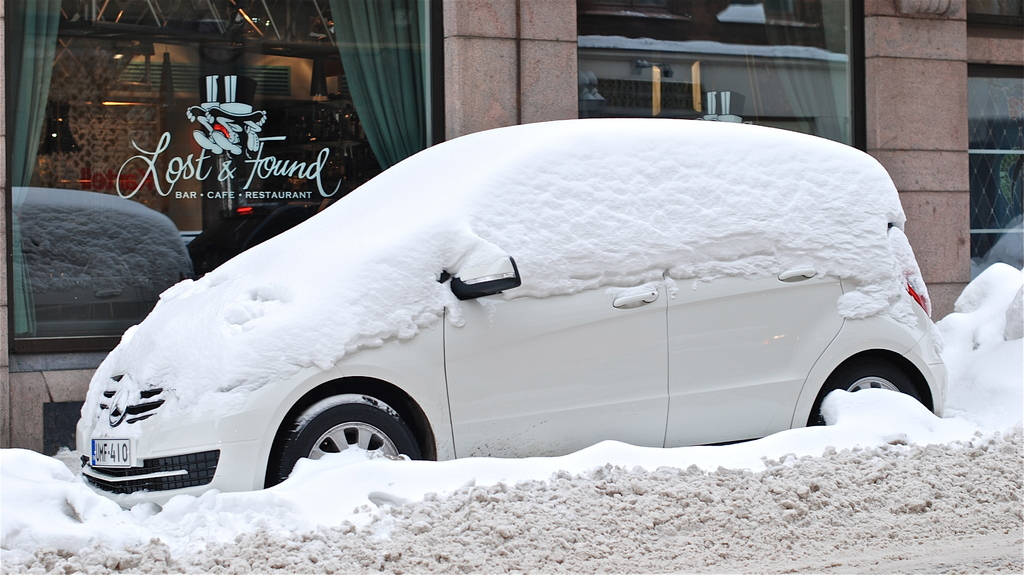Car: (74, 119, 950, 502)
